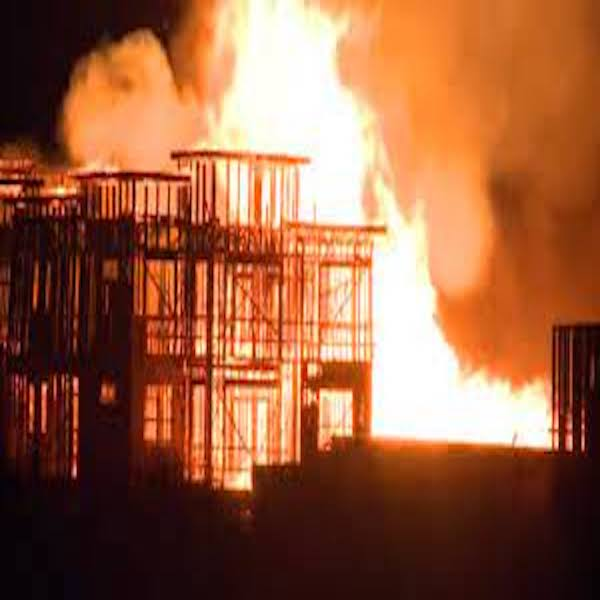fire: (226, 8, 374, 153), (374, 210, 464, 432), (463, 361, 553, 446), (297, 158, 366, 227), (225, 416, 267, 467)
